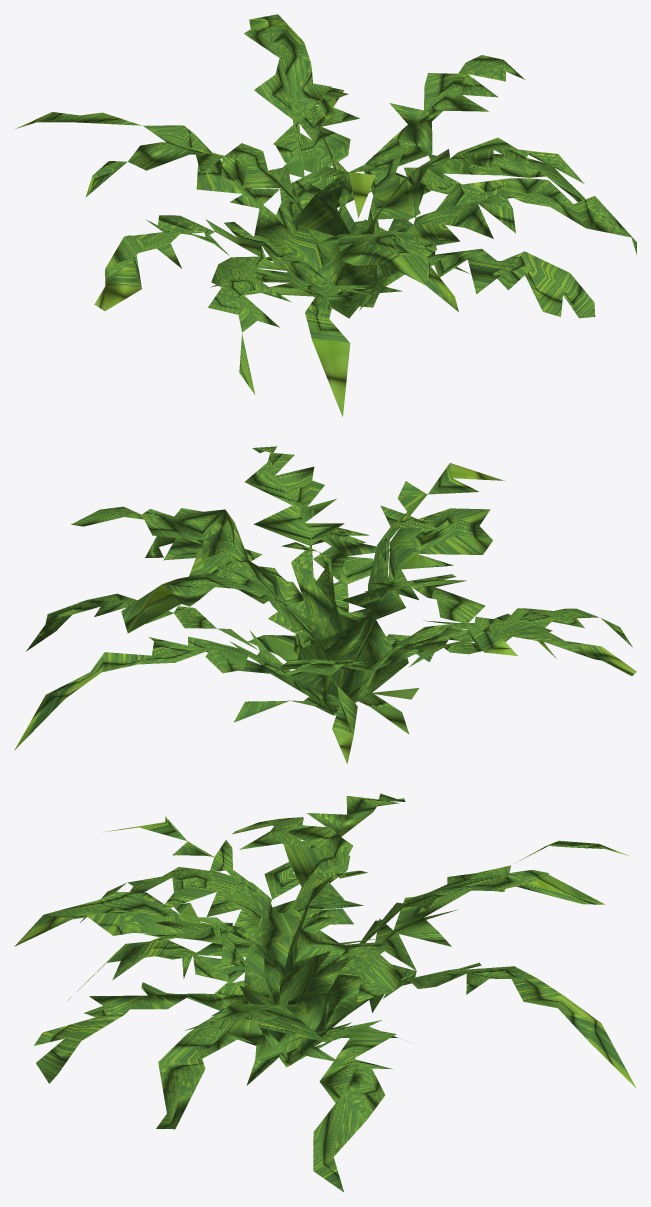
File: fern.glb
3 views of the same model, one above another, from view 1: azimuth 30°, elevation 25°; view 2: azimuth 150°, elevation 25°; view 3: azimuth 270°, elevation 25° (orthographic). The views are drawn at different scales.
Parts seen in each view (by area): view 1: fern; view 2: fern; view 3: fern.
Boxes of the visible parts, box(x1,y1,x2,y2) form: fern: box(15, 14, 636, 417); fern: box(14, 446, 636, 763); fern: box(14, 793, 636, 1191).
Bounding box in the file's own units: 3.86 × 1.39 × 3.6.
1 material, 1 textured.
